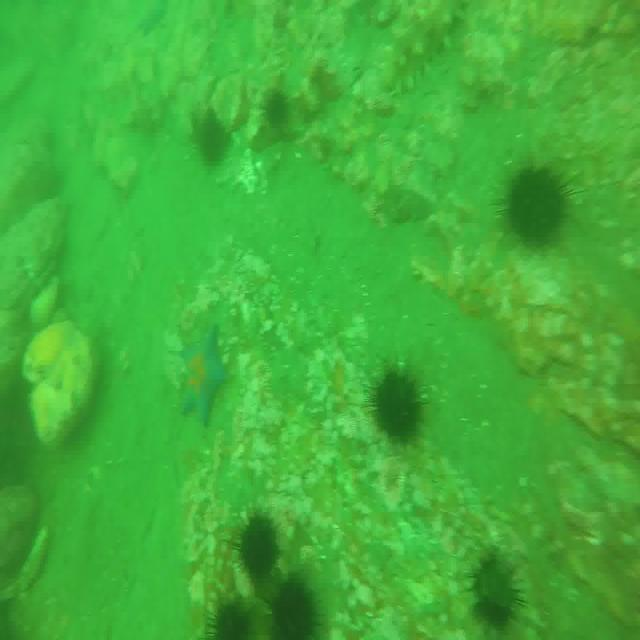echinus: (507, 164, 568, 245), (373, 369, 425, 442), (470, 552, 519, 627), (267, 574, 321, 640), (235, 511, 276, 582), (205, 596, 251, 640), (200, 114, 227, 159), (269, 91, 289, 126)
holothurian: (391, 0, 465, 94)
starfish: (176, 331, 224, 423)
